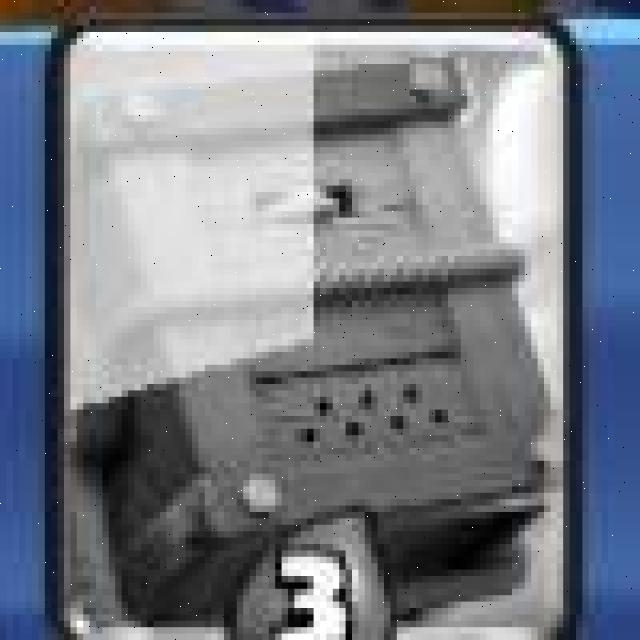Royal_Delivery: (54, 12, 582, 640)
